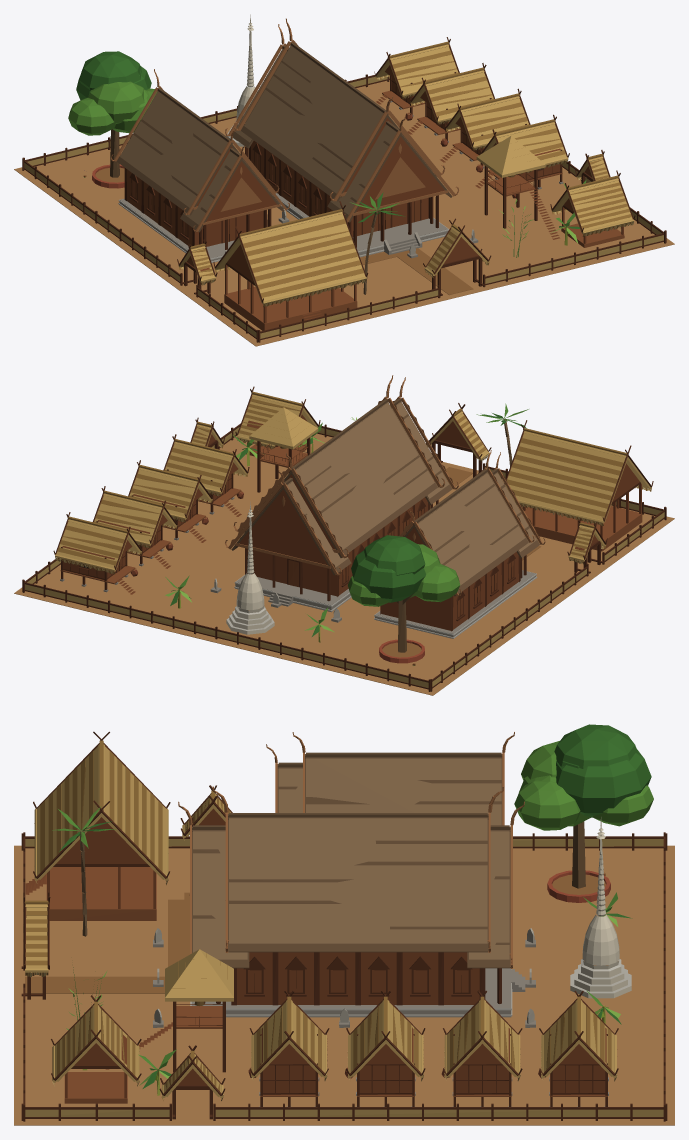
File: temple_3.glb
3 views of the same model, one above another, from view 1: azimuth 30°, elevation 25°; view 2: azimuth 150°, elevation 25°; view 3: azimuth 270°, elevation 25° (orthographic). The views are drawn at different scales.
Parts seen in each view (by area): view 1: body; view 2: body; view 3: body.
Part boxes in pixels (x1,y1,x2,y2): body: (14, 14, 674, 346); body: (14, 375, 674, 695); body: (14, 724, 674, 1125).
Size of the model in its own units: 47.9 by 16.11 by 47.9.
